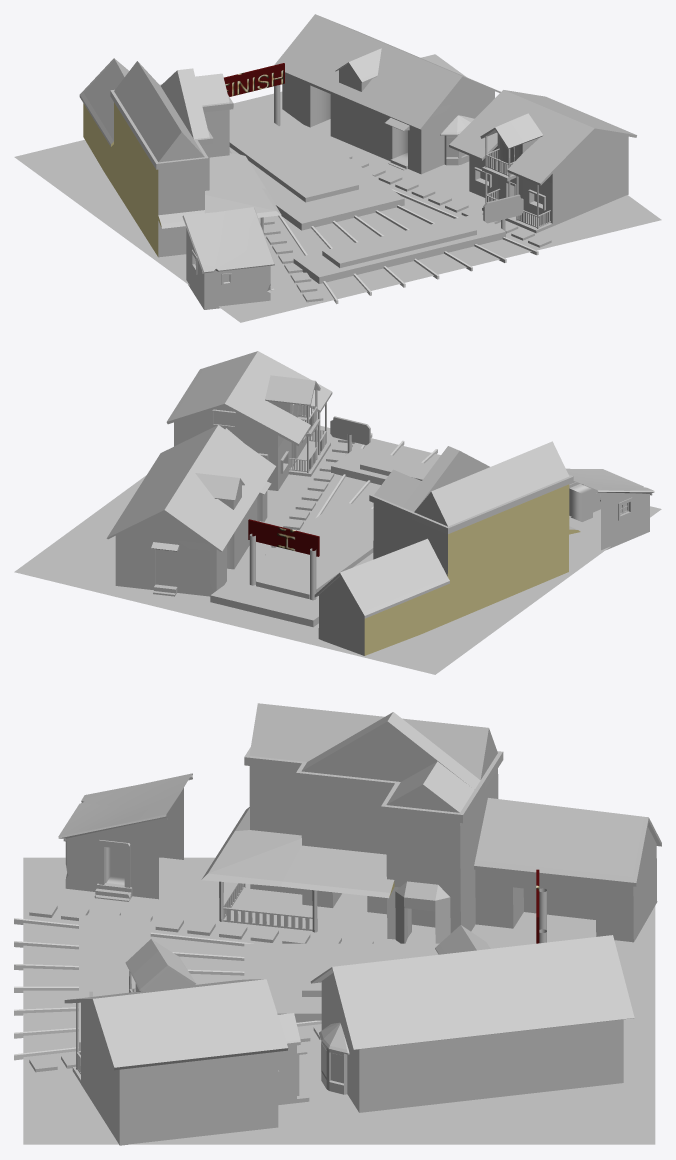
Rendered from 3d environment_for_test01.fbx.
3 views of the same model, one above another, from view 1: azimuth 30°, elevation 25°; view 2: azimuth 150°, elevation 25°; view 3: azimuth 270°, elevation 25° (orthographic). The views are drawn at different scales.
Parts seen in each view (by area): view 1: polySurface1, polySurface12, polySurface29, polySurface20, polySurface72, polySurface2, polySurface73, polySurface63, polySurface74, polySurface15; view 2: polySurface12, polySurface1, polySurface29, polySurface20, polySurface72, polySurface2, polySurface73, polySurface63, polySurface74, polySurface15, polySurface26; view 3: polySurface12, polySurface1, polySurface29, polySurface20, polySurface2, polySurface72, polySurface73, polySurface13, polySurface65, polySurface63, polySurface71.
Part boxes in pixels (x1,y1,x2,y2): polySurface1: [14, 54, 661, 322]; polySurface12: [79, 58, 281, 257]; polySurface29: [274, 14, 500, 174]; polySurface20: [449, 90, 636, 233]; polySurface72: [229, 104, 404, 230]; polySurface2: [182, 207, 274, 309]; polySurface73: [293, 213, 505, 283]; polySurface63: [224, 63, 284, 126]; polySurface74: [485, 136, 550, 228]; polySurface15: [483, 194, 523, 230]; polySurface12: [314, 441, 580, 655]; polySurface1: [14, 425, 661, 674]; polySurface29: [106, 425, 275, 596]; polySurface20: [166, 351, 332, 490]; polySurface72: [210, 501, 373, 627]; polySurface2: [566, 468, 654, 550]; polySurface73: [331, 447, 433, 484]; polySurface63: [248, 519, 319, 600]; polySurface74: [289, 389, 326, 472]; polySurface15: [330, 416, 370, 453]; polySurface26: [195, 473, 244, 509]; polySurface12: [201, 703, 661, 943]; polySurface1: [23, 857, 655, 1144]; polySurface29: [310, 925, 634, 1112]; polySurface20: [64, 939, 309, 1145]; polySurface2: [58, 773, 192, 899]; polySurface72: [244, 943, 534, 1022]; polySurface73: [79, 915, 150, 1050]; polySurface13: [219, 881, 317, 932]; polySurface65: [14, 918, 253, 946]; polySurface63: [536, 869, 546, 943]; polySurface71: [14, 941, 244, 960].
Bounding box in the file's own units: 986 × 301 × 893.
